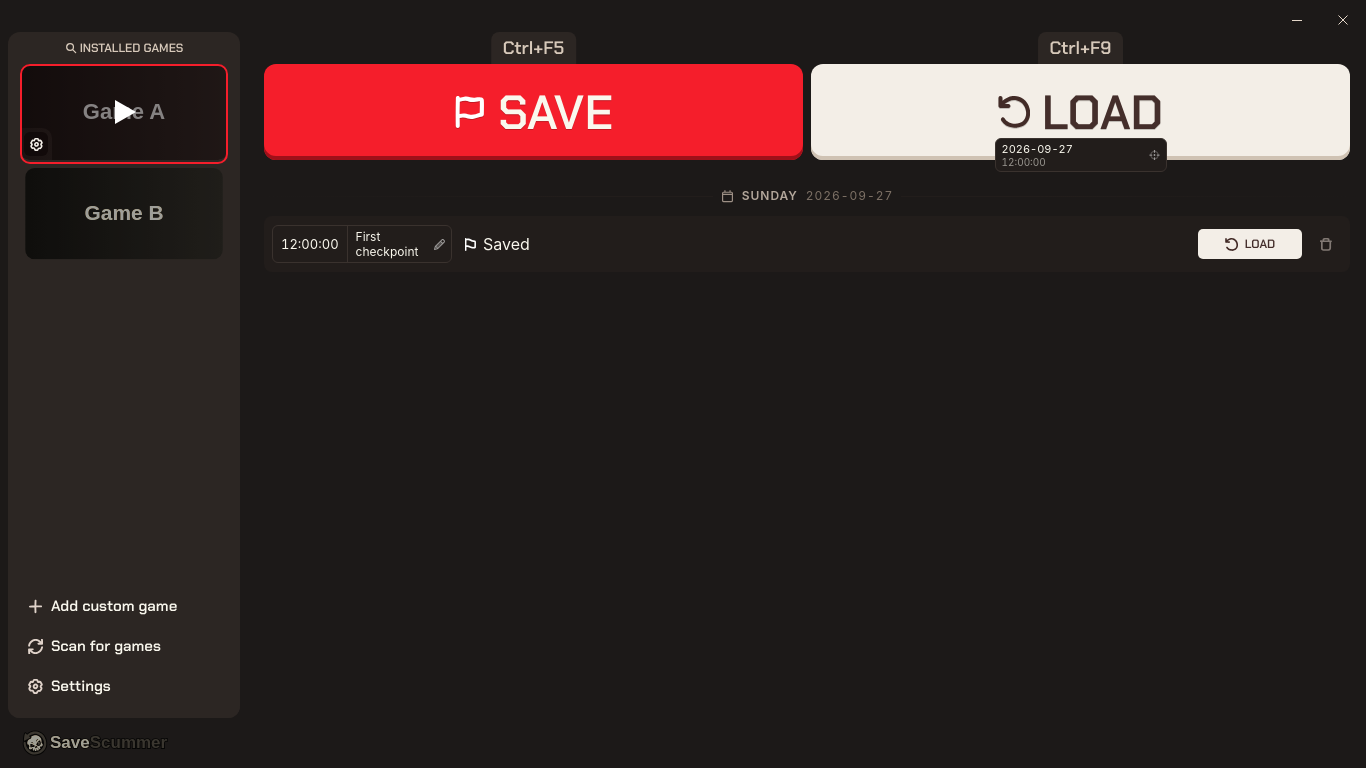
Test case: Configure offers Reset only where a path differs from the default
Expected: the text "First checkpoint" is shown, top-left (356, 229), bottom-right (418, 259)
Click the button named "Configure Game A": (36, 144) top-left (24, 132), bottom-right (48, 156)
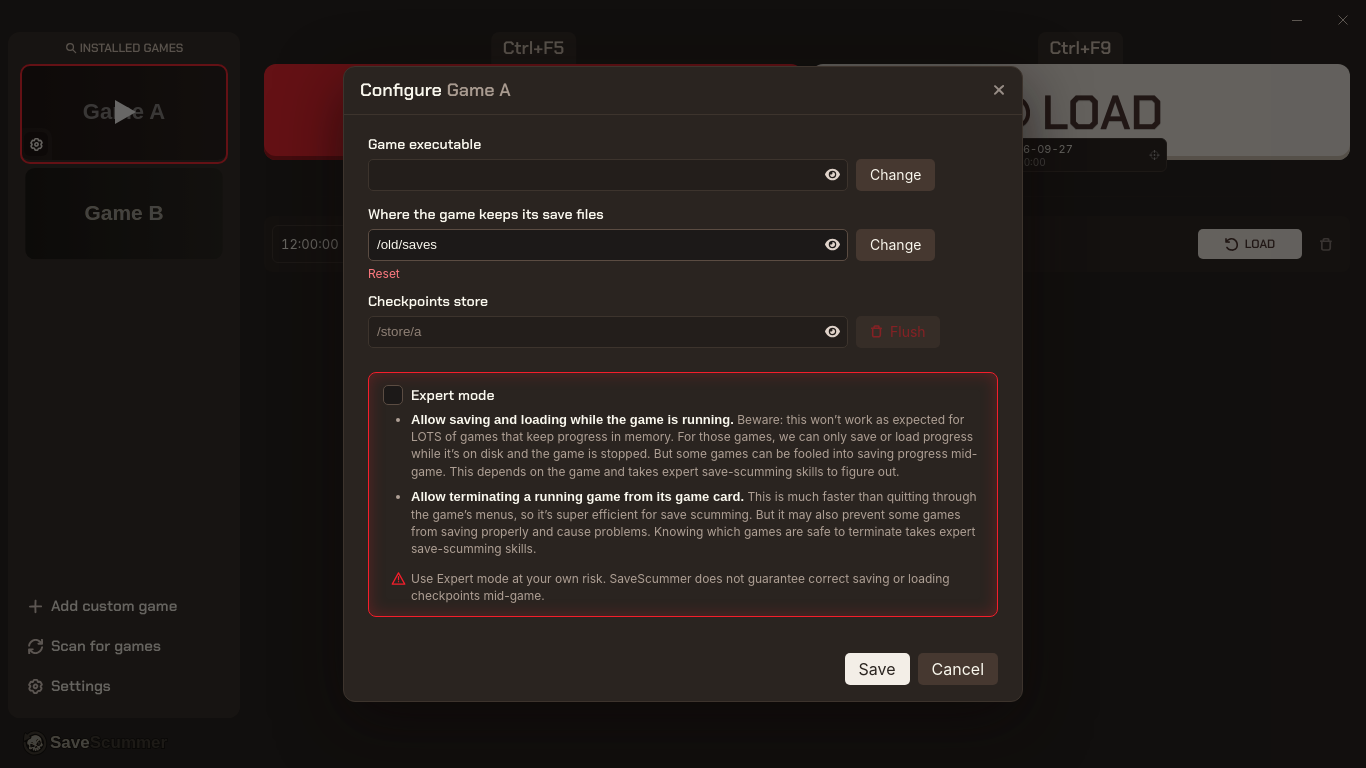
Expected: the field labelled "Where the game keeps its save files" holds "/old/saves", top-left (368, 228), bottom-right (848, 260)
Expected: the number of buttons "Reset" is 1
Click the button "Reset": (384, 274) top-left (368, 266), bottom-right (400, 282)
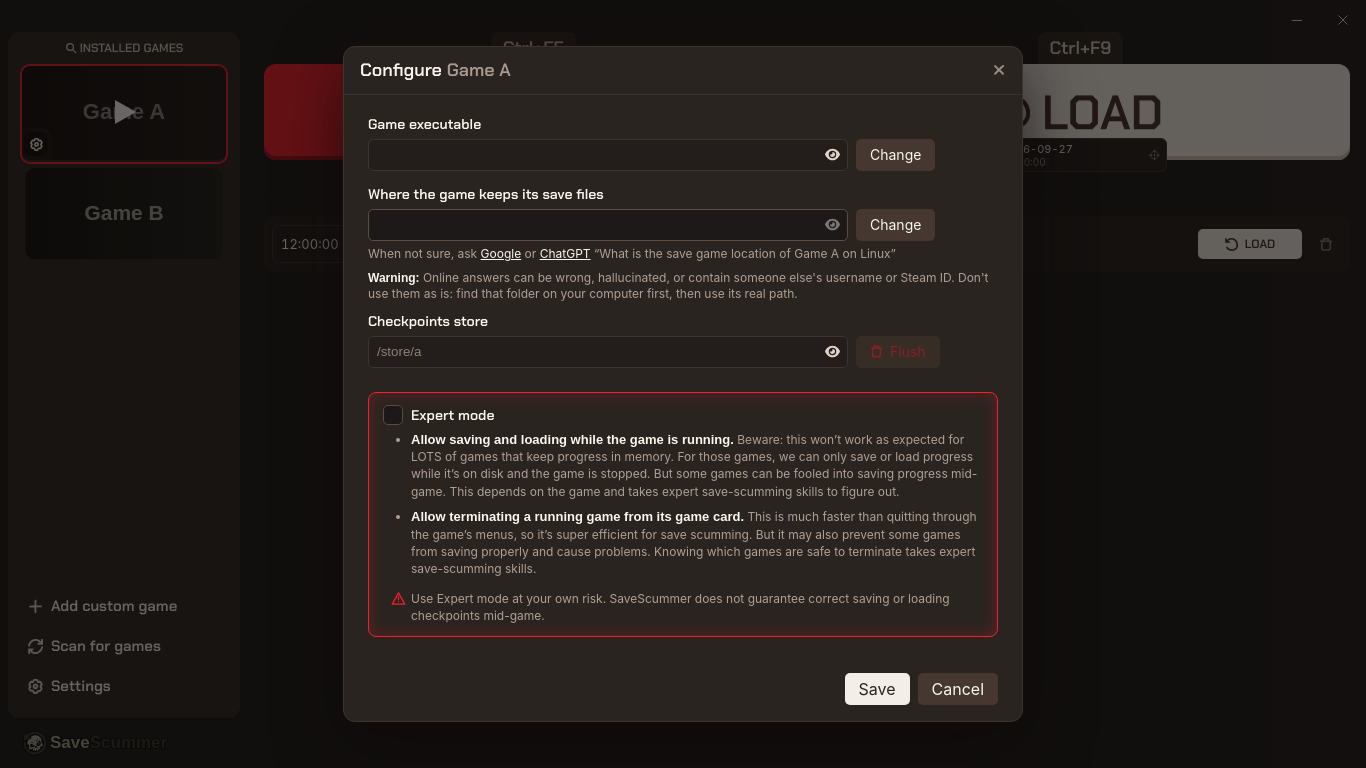
Expected: the field labelled "Where the game keeps its save files" is empty, top-left (368, 208), bottom-right (848, 240)
Expected: no buttons "Reset" are shown
Click the 1st button "Change": (896, 154) top-left (856, 138), bottom-right (935, 170)
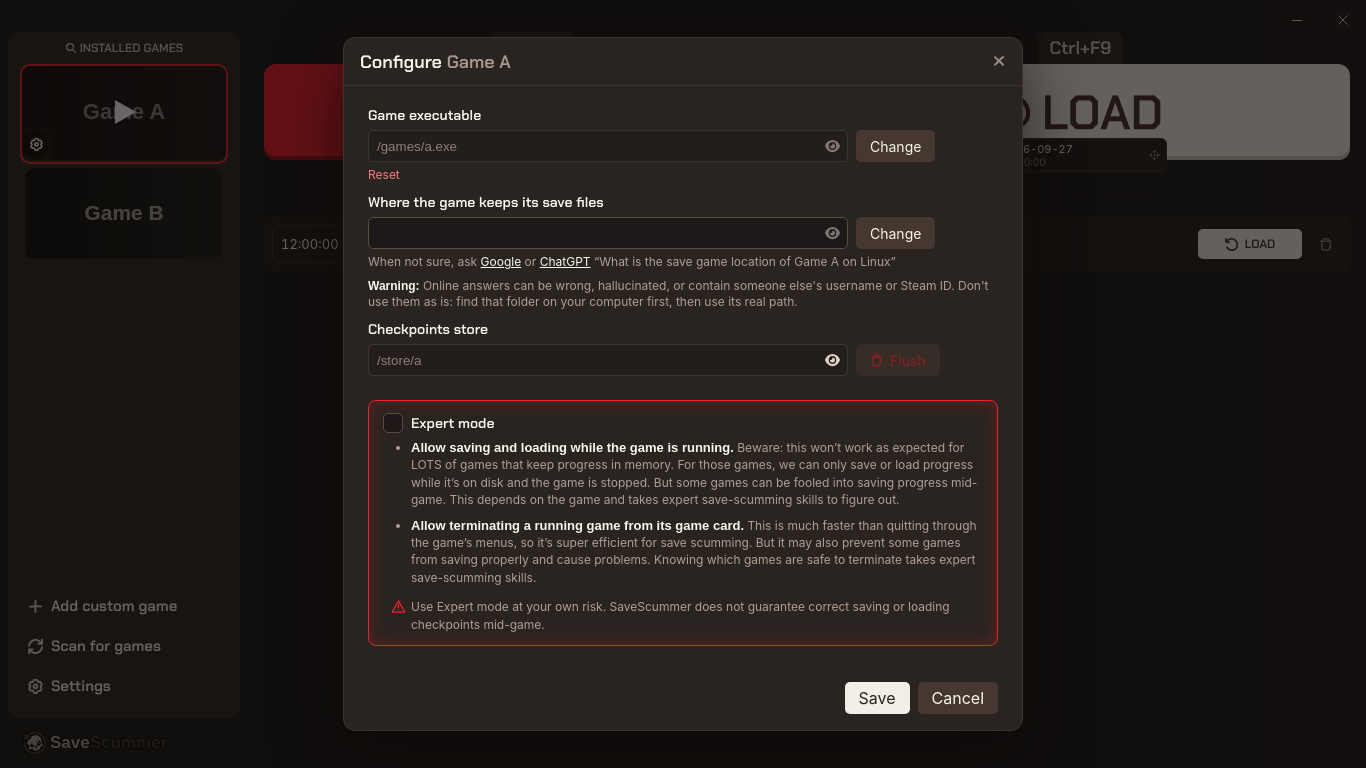
Expected: the number of buttons "Reset" is 1
Click the button "Reset": (384, 175) top-left (368, 167), bottom-right (400, 183)
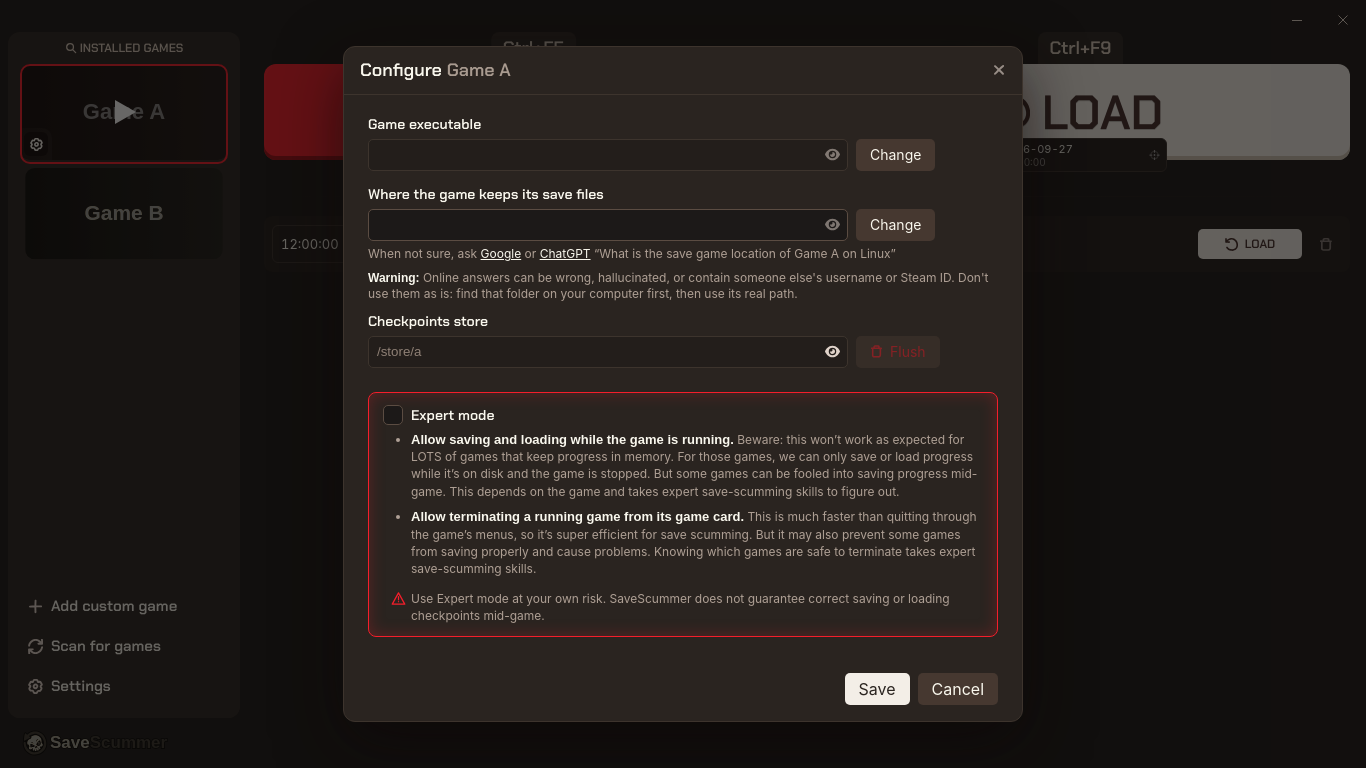
Expected: no buttons "Reset" are shown
